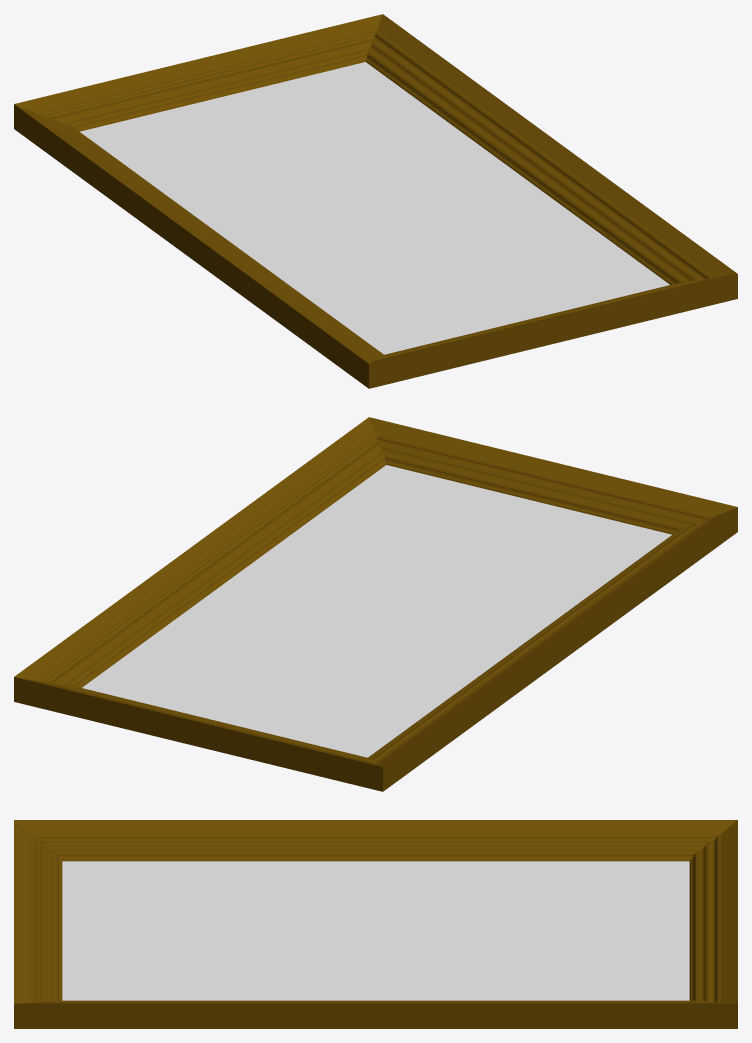
File: frame-30x18.fbx
3 renders of one model, top to bottom at view 1: azimuth 30°, elevation 25°; view 2: azimuth 150°, elevation 25°; view 3: azimuth 270°, elevation 25°, orthographic.
Parts seen in each view (by area): view 1: Cube; view 2: Cube; view 3: Cube.
Boxes of the visible parts, left/top/right/bottom form: Cube: left=14, top=14, right=737, bottom=388; Cube: left=14, top=417, right=737, bottom=791; Cube: left=14, top=820, right=737, bottom=1028.
Size of the model in its own units: 18 by 1.16 by 30.
